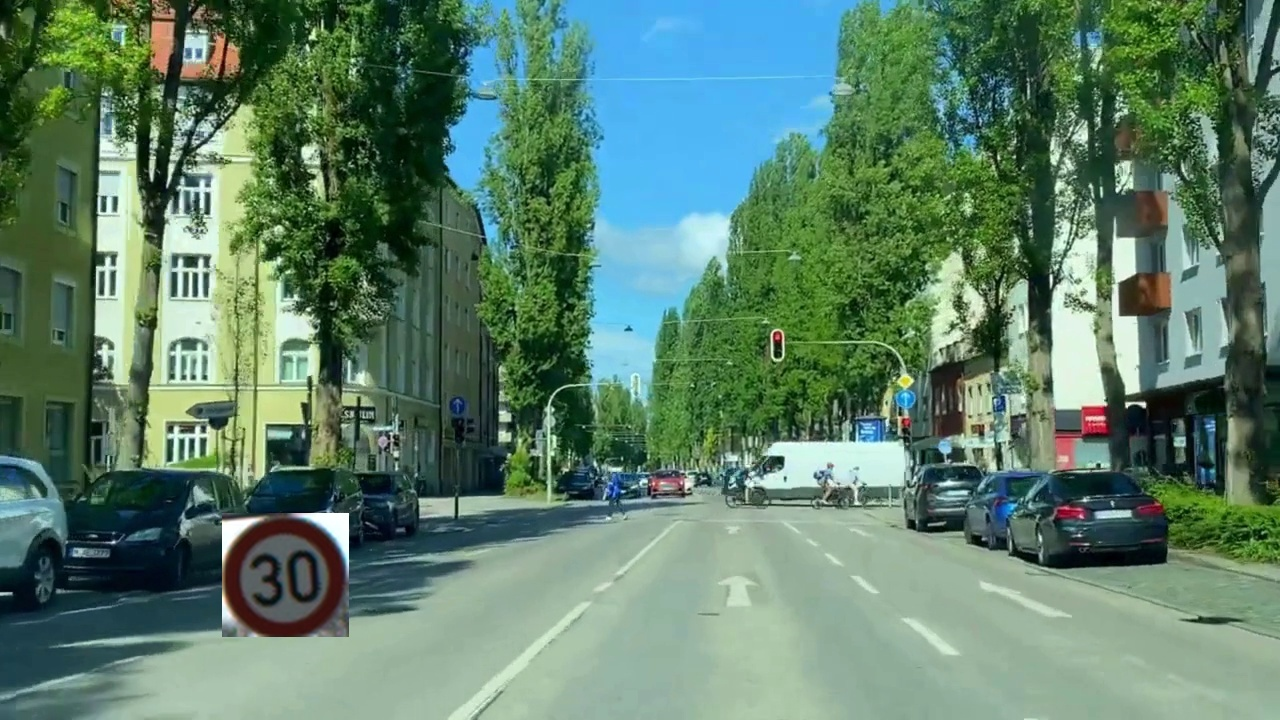Speed 30: (222, 513, 349, 637)
